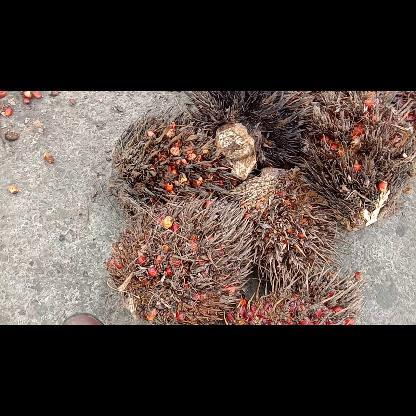Terlalu masak: (107, 192, 251, 324), (300, 90, 416, 232), (233, 167, 346, 284), (110, 110, 234, 212), (185, 90, 311, 180), (225, 266, 365, 324)
